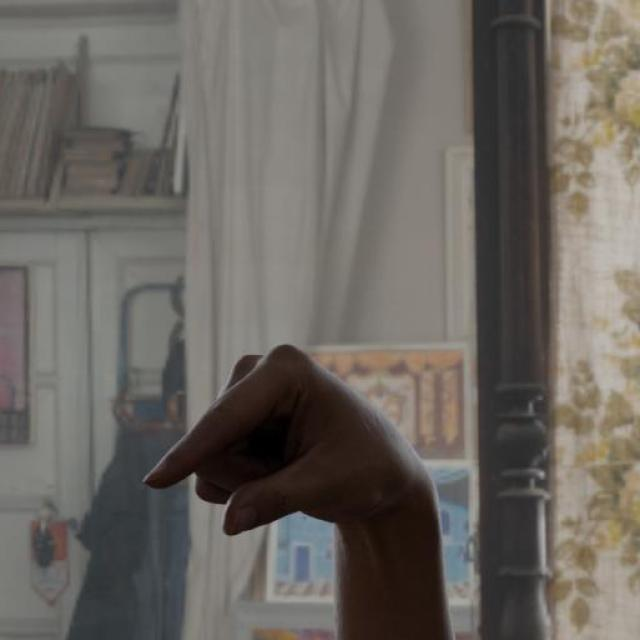Q: (130, 338, 425, 546)
